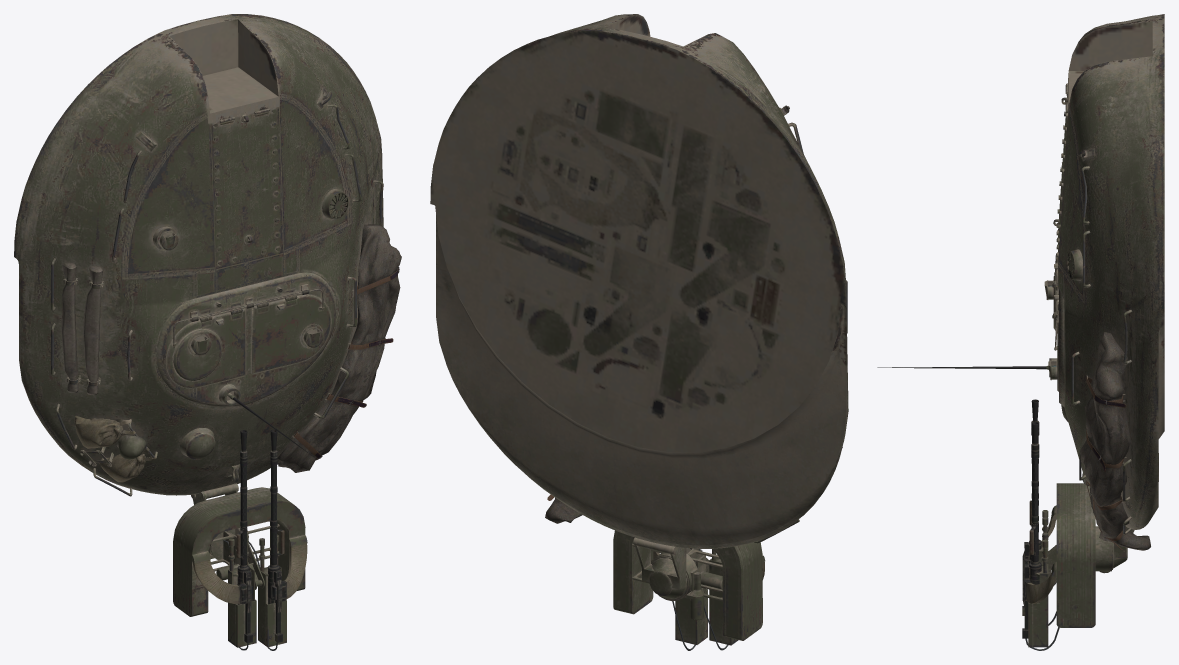
The model's file is Turret_01.glb.
The picture shows the model from 3 angles, left to right: view 1: azimuth 30°, elevation 25°; view 2: azimuth 150°, elevation 25°; view 3: azimuth 270°, elevation 25°; orthographic projection. The views are drawn at different scales.
Visible parts, largest first — view 1: set_0_group_0; view 2: set_0_group_0; view 3: set_0_group_0.
Boxes of the visible parts, <box> form: set_0_group_0: <box>14,14,401,650</box>; set_0_group_0: <box>430,14,848,650</box>; set_0_group_0: <box>877,14,1164,650</box>.
Bounding box in the file's own units: 3.54 × 5.41 × 2.32.
1 material, 1 textured.
